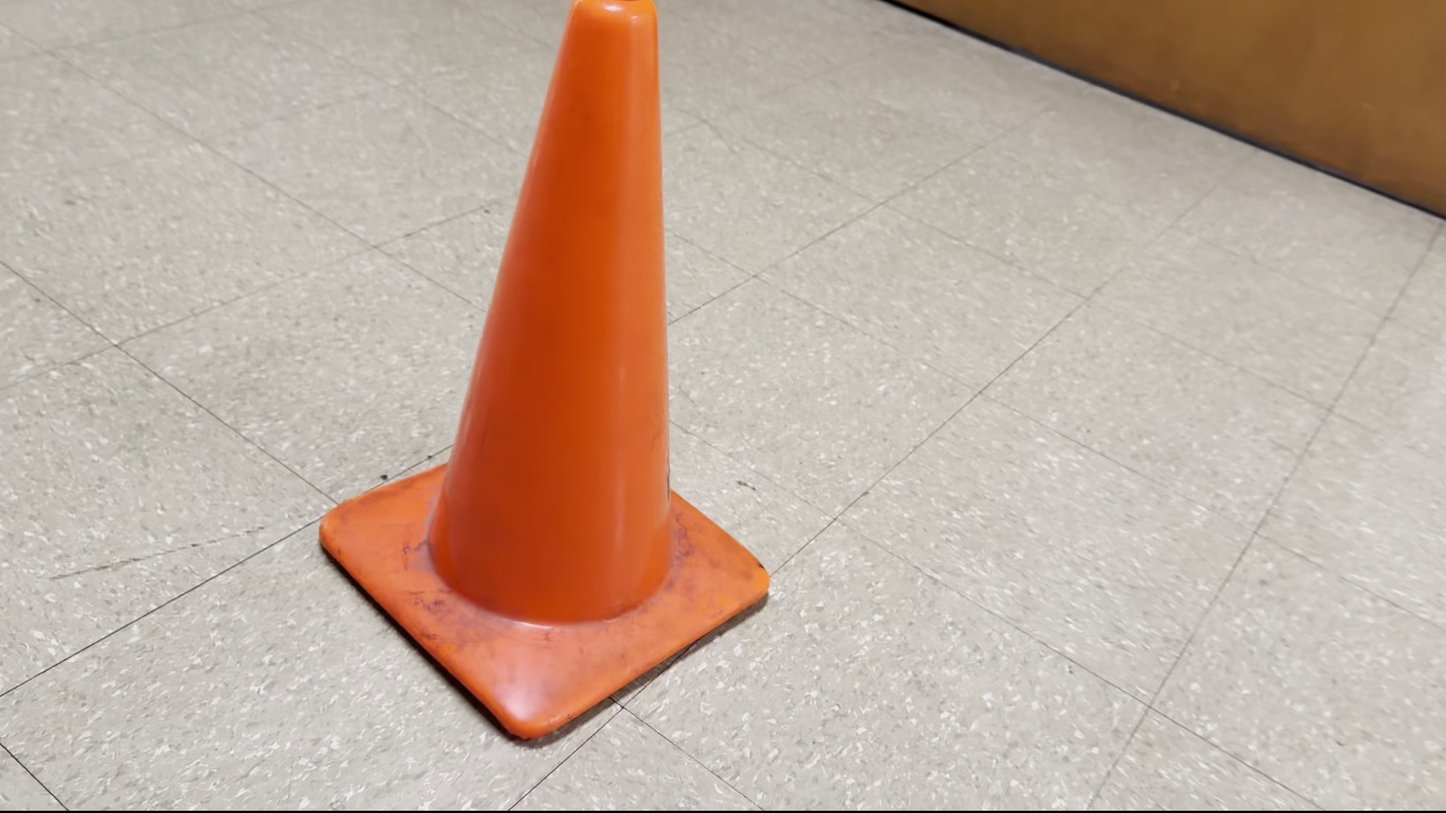traffic_cone: (317, 0, 771, 742)
